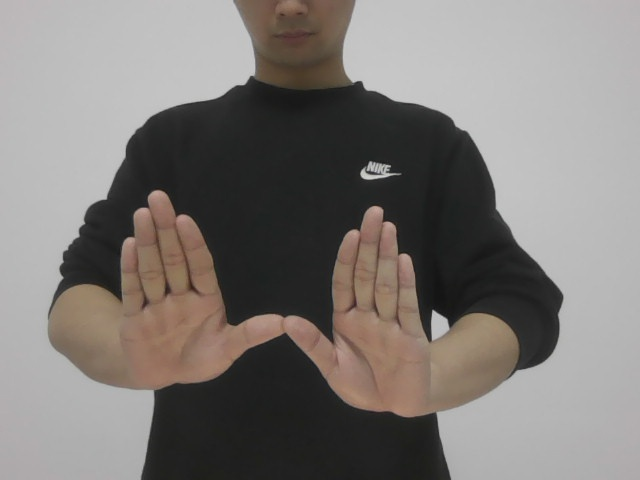door: (97, 182, 434, 419)
